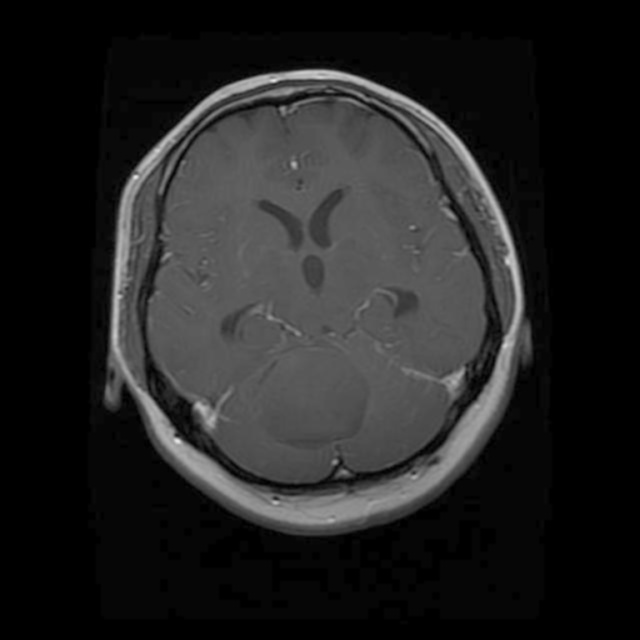pituitary tumor: (248, 352, 364, 446)
